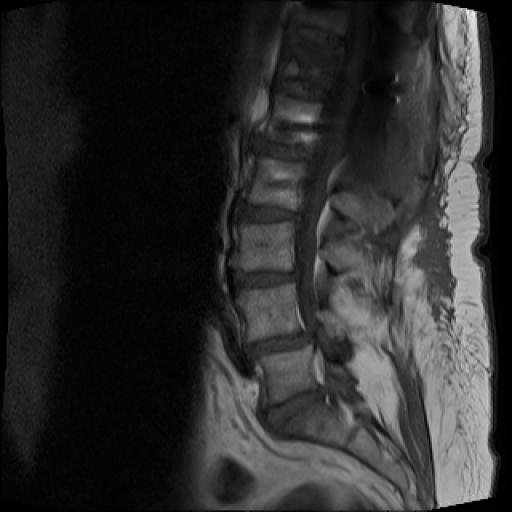L1: (265, 96, 320, 149)
L2: (249, 158, 305, 210)
L3: (240, 222, 294, 272)
L4: (237, 283, 299, 342)
L5: (260, 345, 317, 406)
S1: (275, 396, 358, 448)
